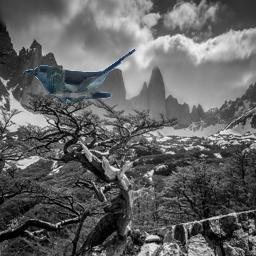Cuckoo: (23, 47, 140, 105)
